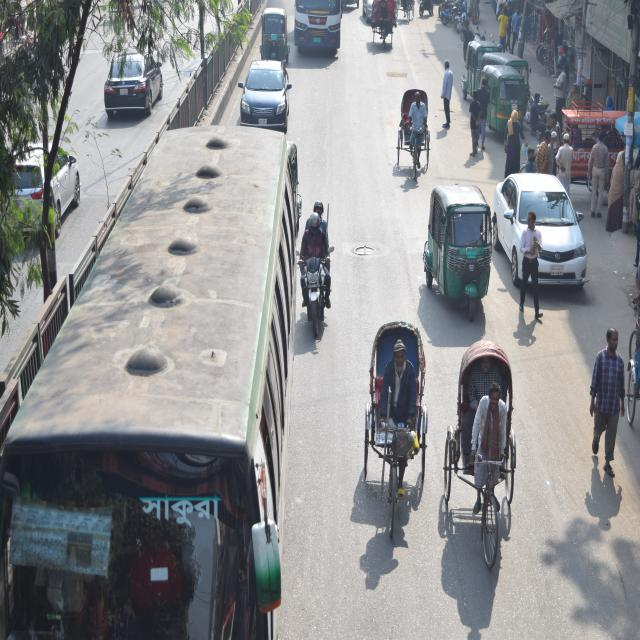bus: (86, 118, 297, 640), (293, 0, 345, 59)
car: (488, 156, 587, 296), (12, 130, 88, 227), (108, 38, 163, 120), (235, 52, 291, 130)
motorbike: (292, 237, 338, 351)
